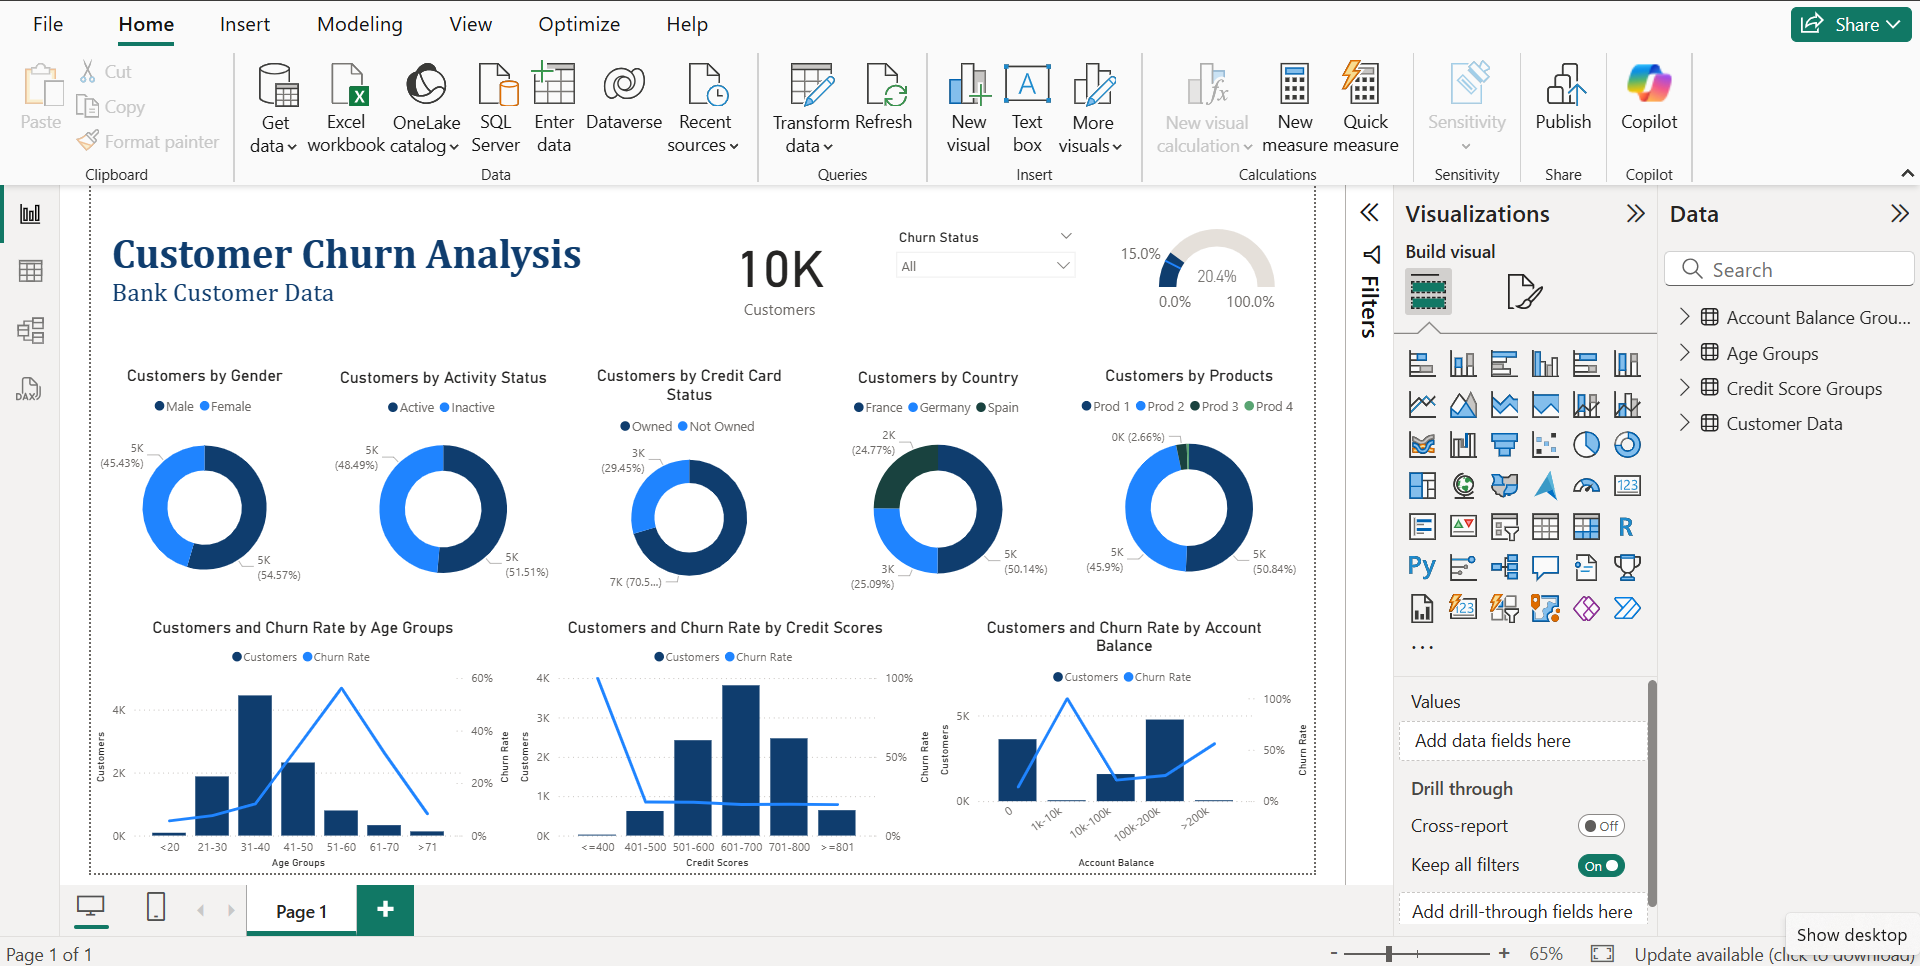

This screenshot's page, from the dashboard's own definition file:
{"tool":"powerbi","page":{"name":"Page 1","canvas":[1280,720],"ordinal":0},"visuals":[{"type":"card","fields":{"Values":["Customer Data.Customers"]},"box":[609.1,40,223.6,103.6],"z":0},{"type":"donutChart","fields":{"Y":["Customer Data.Customers"],"Category":["Customer Data.Activity Status"]},"box":[238.2,190.9,260,245.5],"z":2000},{"type":"donutChart","fields":{"Category":["Customer Data.Gender"],"Y":["Customer Data.Customers"]},"box":[0,189.1,238.2,245.5],"z":3000},{"type":"donutChart","fields":{"Y":["Customer Data.Customers"],"Category":["Customer Data.Credit Card Status"]},"box":[498.2,189.1,254.5,245.5],"z":4000},{"type":"donutChart","fields":{"Y":["Customer Data.Customers"],"Category":["Customer Data.Country"]},"box":[752.7,190.9,267.3,245.5],"z":5000},{"type":"donutChart","fields":{"Y":["Customer Data.Customers"],"Category":["Customer Data.Products"]},"box":[1020,189.1,260,245.5],"z":6000},{"type":"lineClusteredColumnComboChart","fields":{"Y":["Customer Data.Customers"],"Y2":["Customer Data.Churn Rate"],"Category":["Age Groups.Age Groups"]},"box":[0,452.7,443.6,267.3],"z":7000},{"type":"lineClusteredColumnComboChart","fields":{"Y":["Customer Data.Customers"],"Y2":["Customer Data.Churn Rate"],"Category":["Account Balance Groups.Account Balance"]},"box":[883.6,452.7,396.4,267.3],"z":8000},{"type":"lineClusteredColumnComboChart","fields":{"Y":["Customer Data.Customers"],"Y2":["Customer Data.Churn Rate"],"Category":["Credit Score Groups.Credit Scores"]},"box":[443.6,452.7,440,267.3],"z":9000},{"type":"slicer","fields":{"Values":["Customer Data.Churn Status"]},"box":[832.7,41.8,207.3,101.8],"z":10000},{"type":"gauge","fields":{"Y":["Customer Data.Churn Rate"],"TargetValue":["Max(Customer Data.Target Churn Rate)"],"MinValue":["Min(Customer Data.Min Churn Rate)"],"MaxValue":["Max(Customer Data.Max Churn Rate)"]},"box":[1040,41.8,232.7,101.8],"z":10001},{"type":"textbox","box":[16.4,41.8,574.5,101.8],"z":10002}]}

Visuals, with their boxes on the page's 1280x720 design canvas (x1, y1, x2, y2). These are canvas units, not pixel positions in the 1920x966 screenshot, which may show the page scaled, cropped or inside an application window:
card - Customer Data.Customers: 609/40/833/144
donutChart - Customer Data.Customers x Customer Data.Activity Status: 238/191/498/436
donutChart - Customer Data.Gender x Customer Data.Customers: 0/189/238/435
donutChart - Customer Data.Customers x Customer Data.Credit Card Status: 498/189/753/435
donutChart - Customer Data.Customers x Customer Data.Country: 753/191/1020/436
donutChart - Customer Data.Customers x Customer Data.Products: 1020/189/1280/435
lineClusteredColumnComboChart - Customer Data.Customers x Customer Data.Churn Rate: 0/453/444/720
lineClusteredColumnComboChart - Customer Data.Customers x Customer Data.Churn Rate: 884/453/1280/720
lineClusteredColumnComboChart - Customer Data.Customers x Customer Data.Churn Rate: 444/453/884/720
slicer - Customer Data.Churn Status: 833/42/1040/144
gauge - Customer Data.Churn Rate x Max(Customer Data.Target Churn Rate): 1040/42/1273/144
textbox: 16/42/591/144
